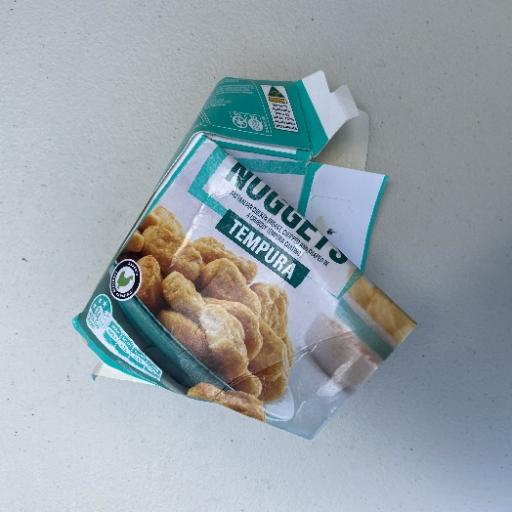Cardboard: (72, 70, 420, 440)
